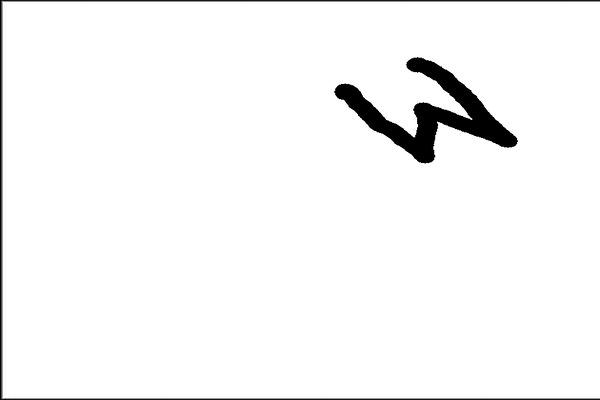w: (319, 48, 530, 170)
